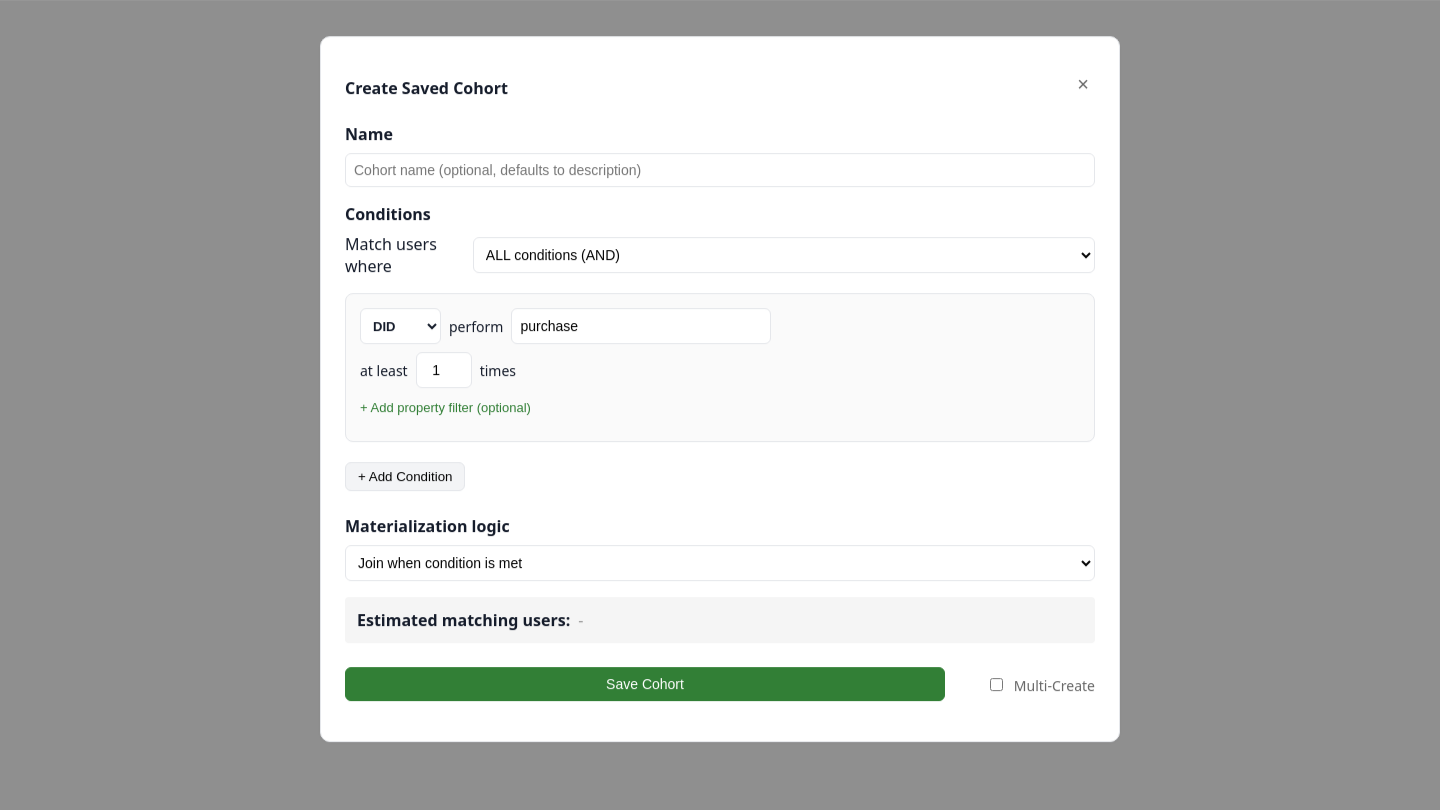
Test: CohortForm multi-create state preservation › preserves form state when creating multiple cohorts
Expected: the checkbox labelled "Multi-Create" is shown, [990,678,1003,690]
Fill form with specific values
Type "Base Cohort" into the field with placeholder "Cohort name (optional, defaults to description)".
click(720, 170); type("Base Cohort")  # box [345,153,1095,187]
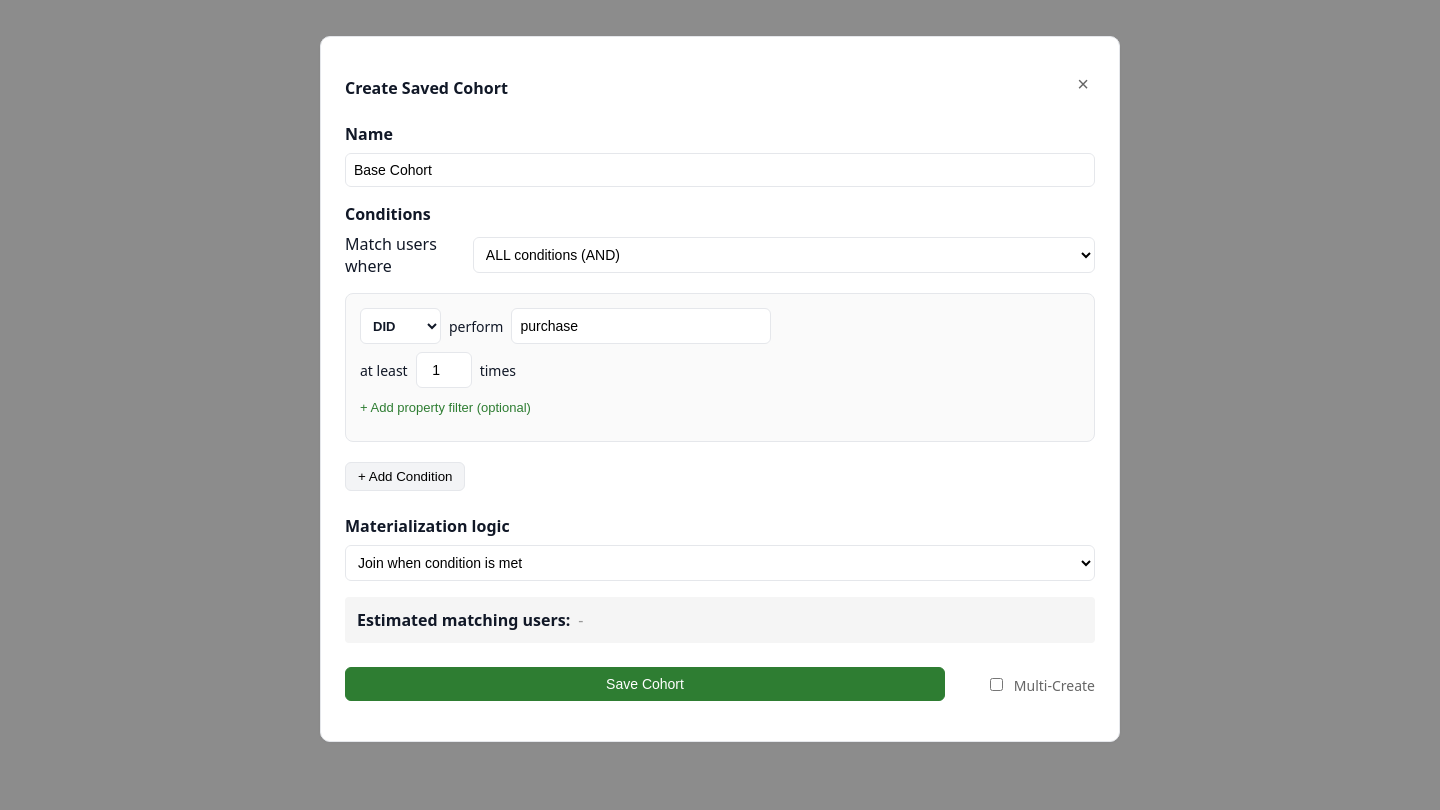
Change Logic Operator to OR
Select "ANY conditions (OR)" in the dropdown showing "ALL conditions" next to "Match users where" at (784, 255), box [473,237,1095,273]
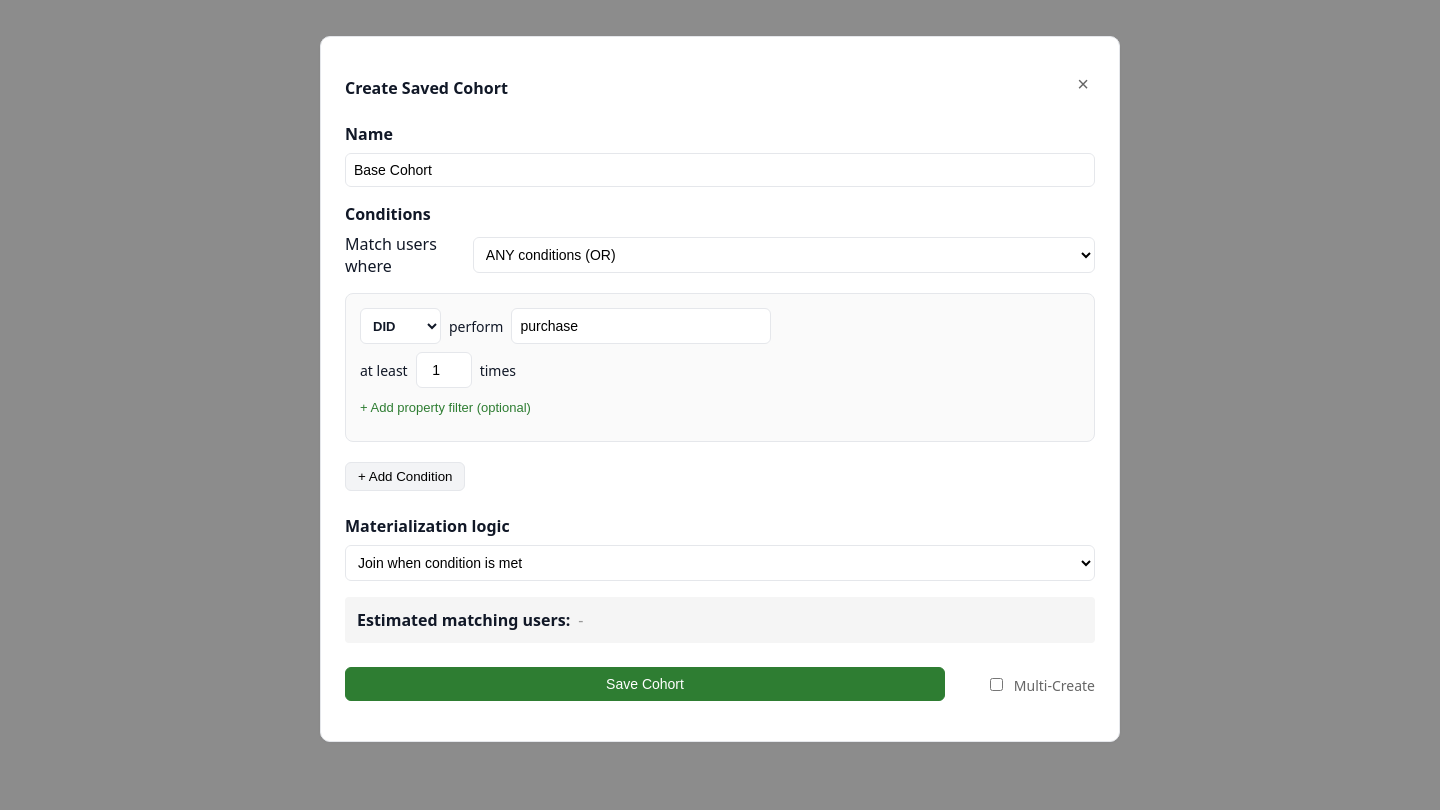
Enable Multi-Create
Click the checkbox labelled "Multi-Create".
click(996, 684)  # box [990,678,1003,690]
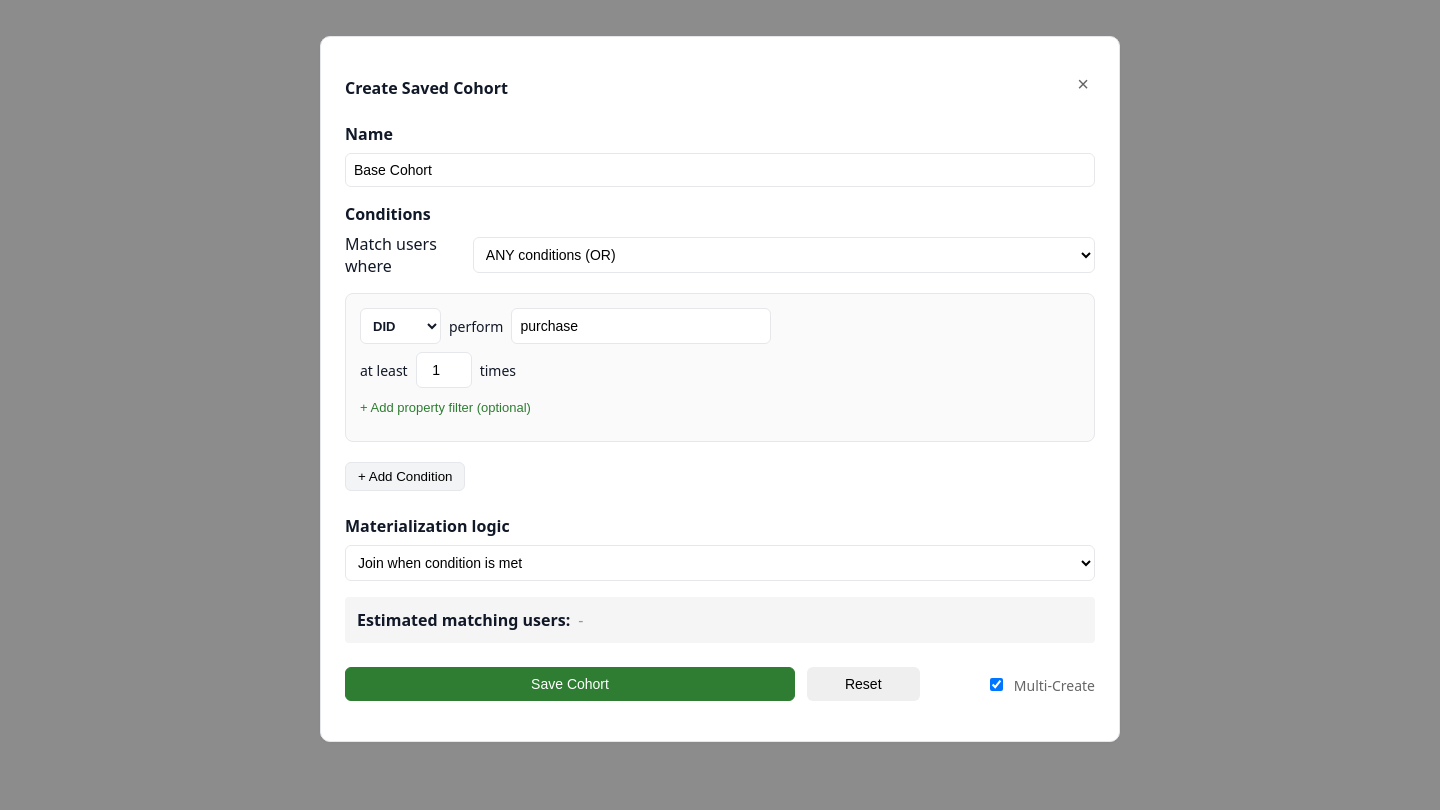
2. Submit
Click the button "Save Cohort".
click(570, 684)  # box [345,667,795,701]
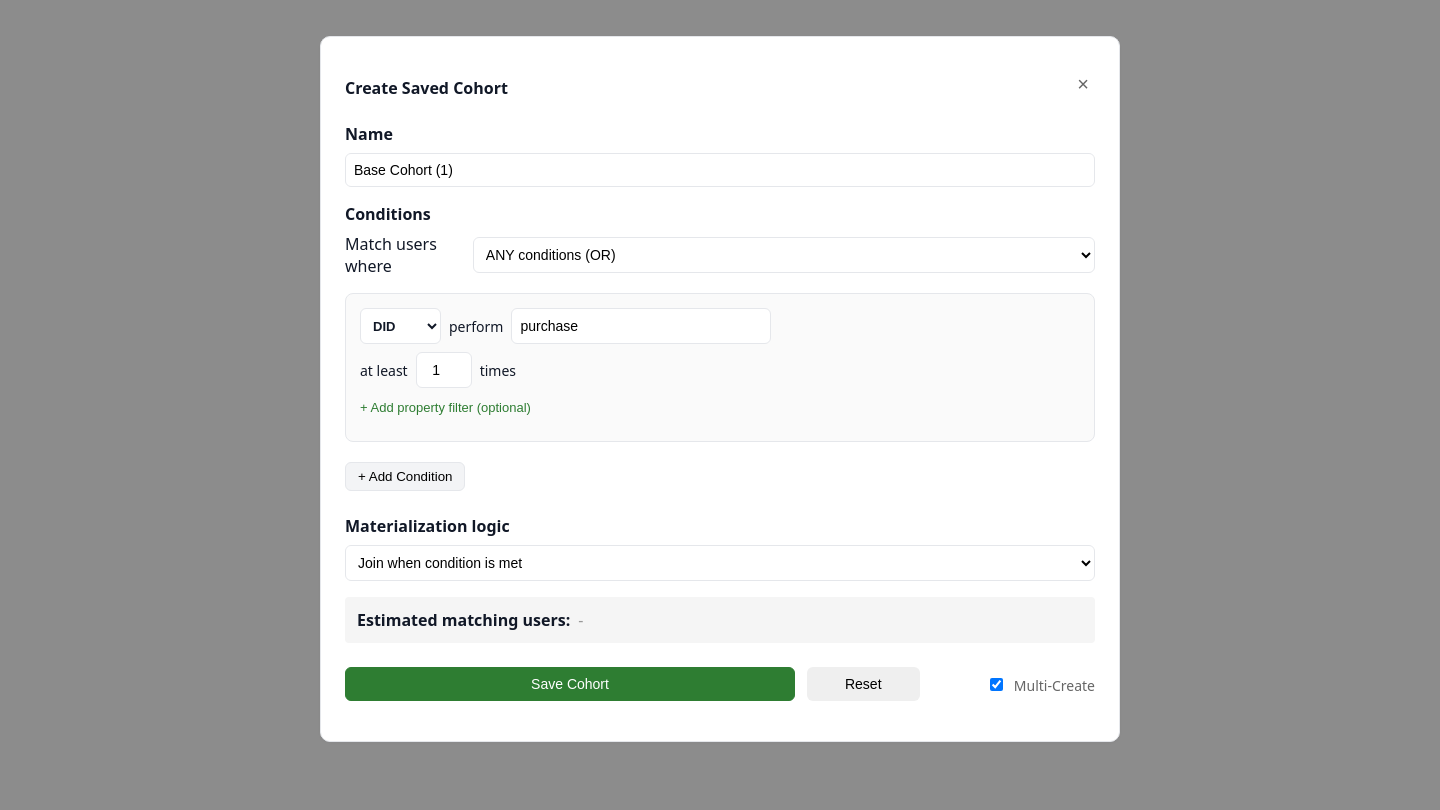
Expected: the text "-" is shown, [578,609,583,631]
Expected: the field with placeholder "Cohort name (optional, defaults to description)" holds "Base Cohort (1)", [345,153,1095,187]
